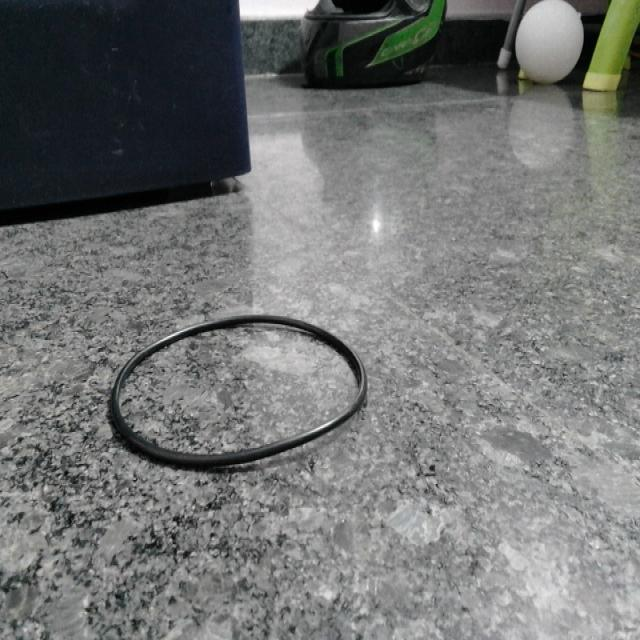black-ring: (112, 315, 366, 468)
